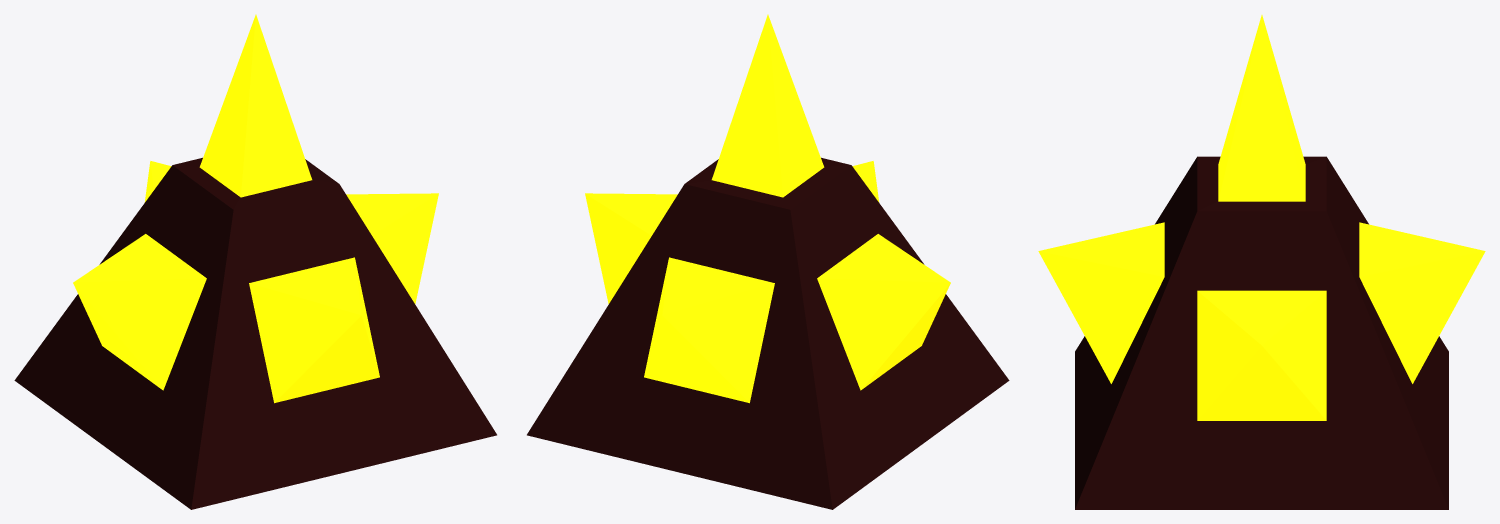
The picture shows the model from 3 angles, left to right: view 1: azimuth 30°, elevation 25°; view 2: azimuth 150°, elevation 25°; view 3: azimuth 270°, elevation 25°; orthographic projection. The views are drawn at different scales.
Parts seen in each view (by area): view 1: Cube; view 2: Cube; view 3: Cube.
Boxes of the visible parts, x1,y1,x2,y2 form: Cube: (14, 14, 496, 509); Cube: (527, 14, 1009, 509); Cube: (1038, 15, 1485, 509).
Bounding box in the file's own units: 239 × 246 × 239.
